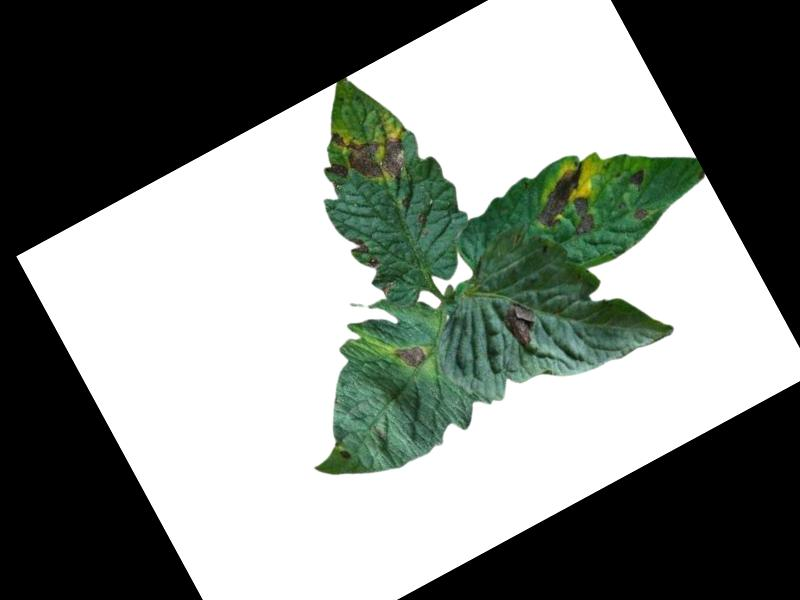Early_blight: (327, 105, 417, 198), (524, 161, 613, 251), (495, 293, 547, 351), (345, 232, 382, 275), (392, 339, 429, 374), (321, 155, 352, 186), (623, 166, 650, 191), (631, 206, 651, 223), (336, 447, 352, 465)
